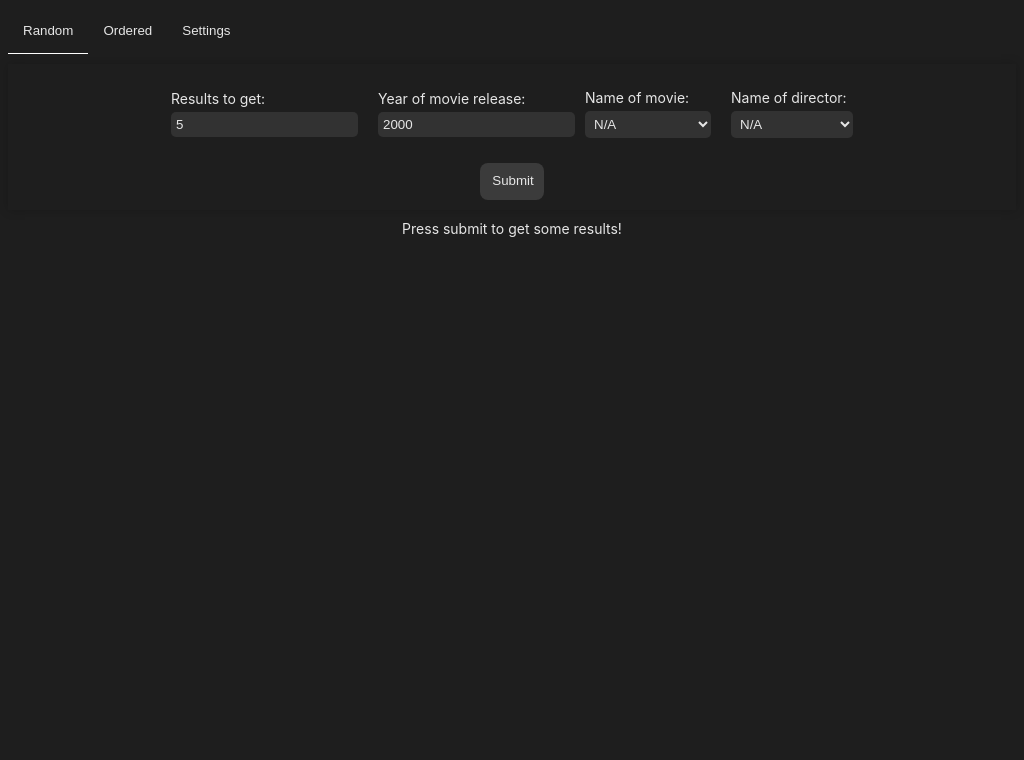
Test: Random Wow Search › As a user, I should get no quotes when the API endpoint cannot be found, but subsequent searches yield results
This screenshot has width=1024, height=760.
Expected: the label "Press submit to get some results!" is shown, [402, 220, 622, 237]
Click the button with id "submit-button" at (512, 182), box [480, 163, 544, 200]
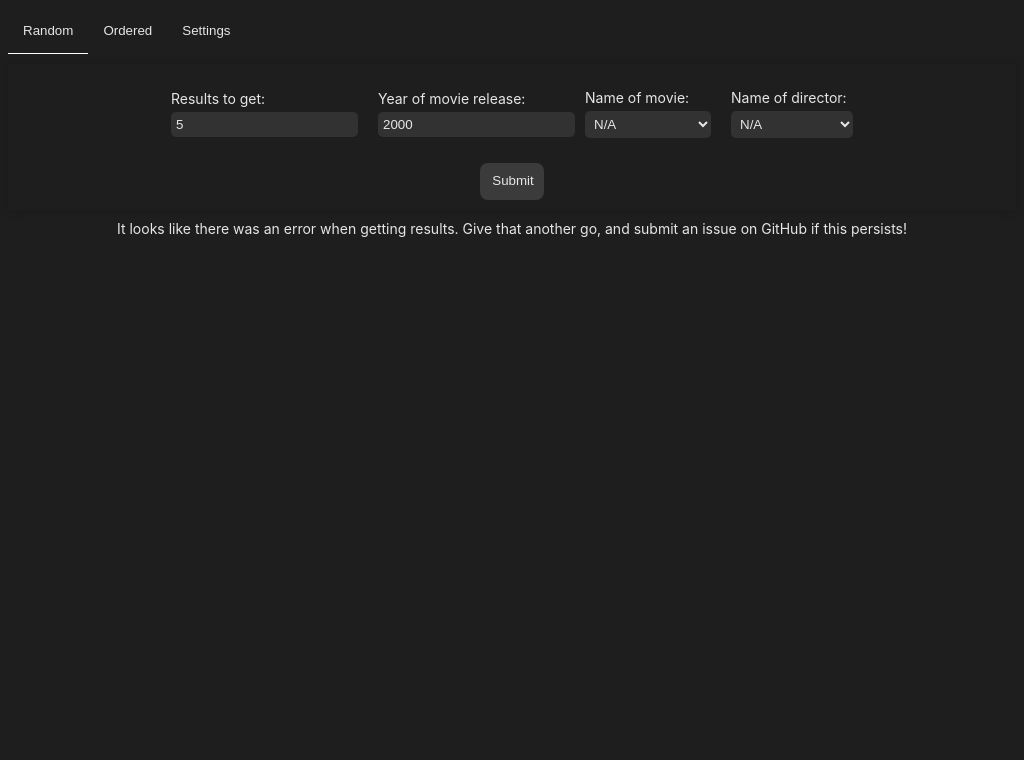
Expected: the 5th label shows "It looks like there was an error when getting results. Give that another go, and submit an issue on GitHub if this persists!", [117, 220, 907, 237]
Click the button with id "submit-button" at (512, 182), box [480, 163, 544, 200]
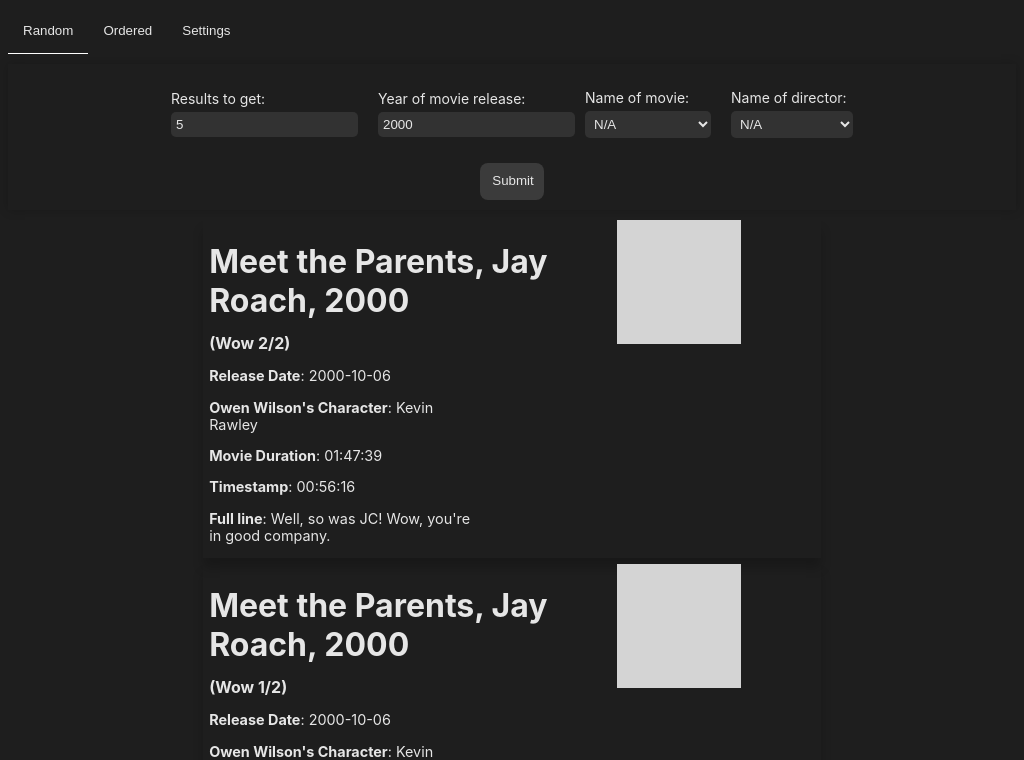
Expected: the element with id "search-error-message-div" is gone
